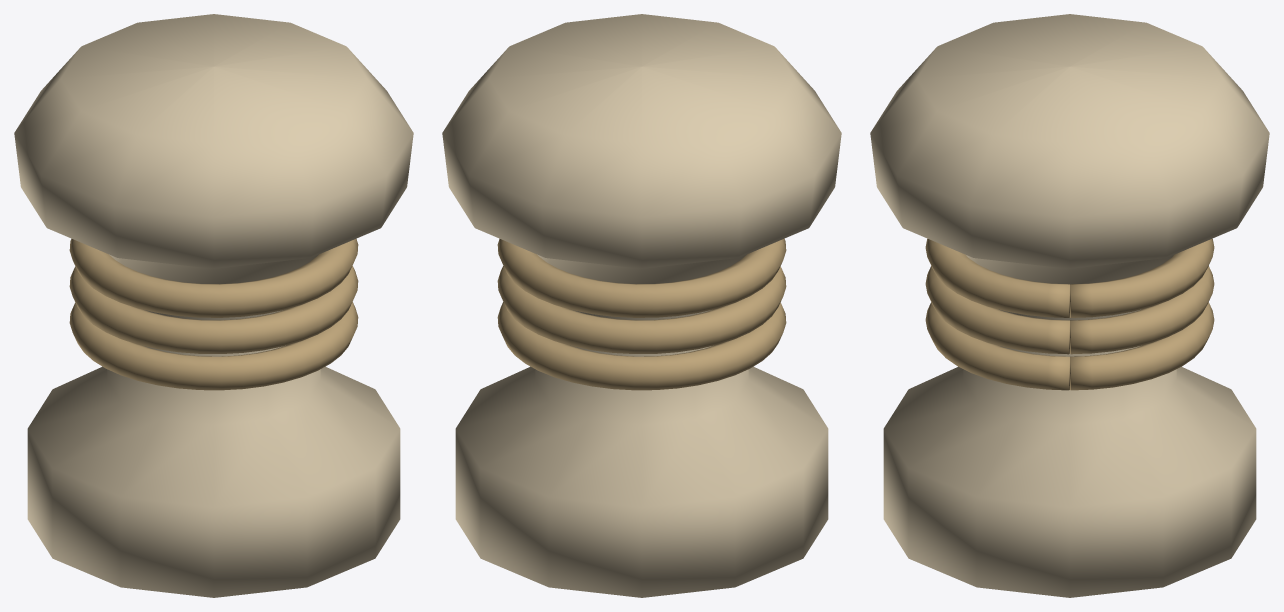
Rendered from mooring-bollard.glb.
3 views of the same model, side by side, from view 1: azimuth 30°, elevation 25°; view 2: azimuth 150°, elevation 25°; view 3: azimuth 270°, elevation 25° (orthographic).
Visible parts, largest first — view 1: mooring-bollard__limestone, mooring-bollard__rope; view 2: mooring-bollard__limestone, mooring-bollard__rope; view 3: mooring-bollard__limestone, mooring-bollard__rope.
Boxes of the visible parts, x1,y1,x2,y2 form: mooring-bollard__limestone: (14,14,413,597); mooring-bollard__rope: (69,238,358,390); mooring-bollard__limestone: (442,14,841,597); mooring-bollard__rope: (497,238,786,390); mooring-bollard__limestone: (870,14,1269,597); mooring-bollard__rope: (925,238,1214,390).
Size of the model in its own units: 0.6 by 0.75 by 0.6.
